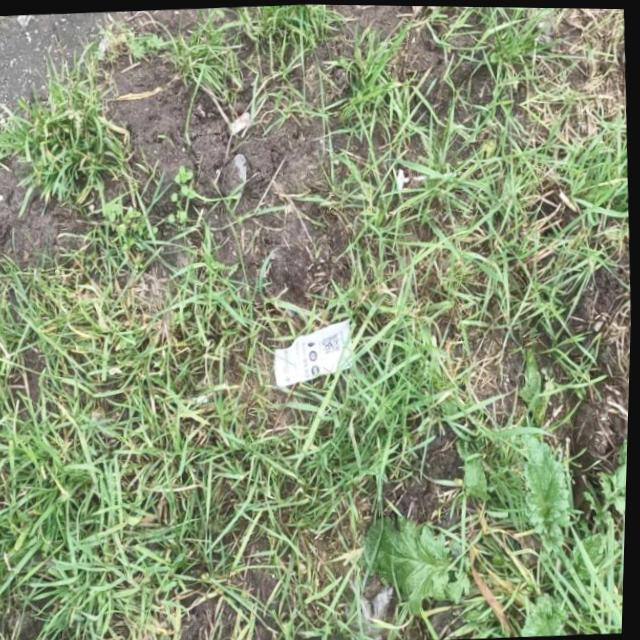Paper: (272, 313, 359, 390)
